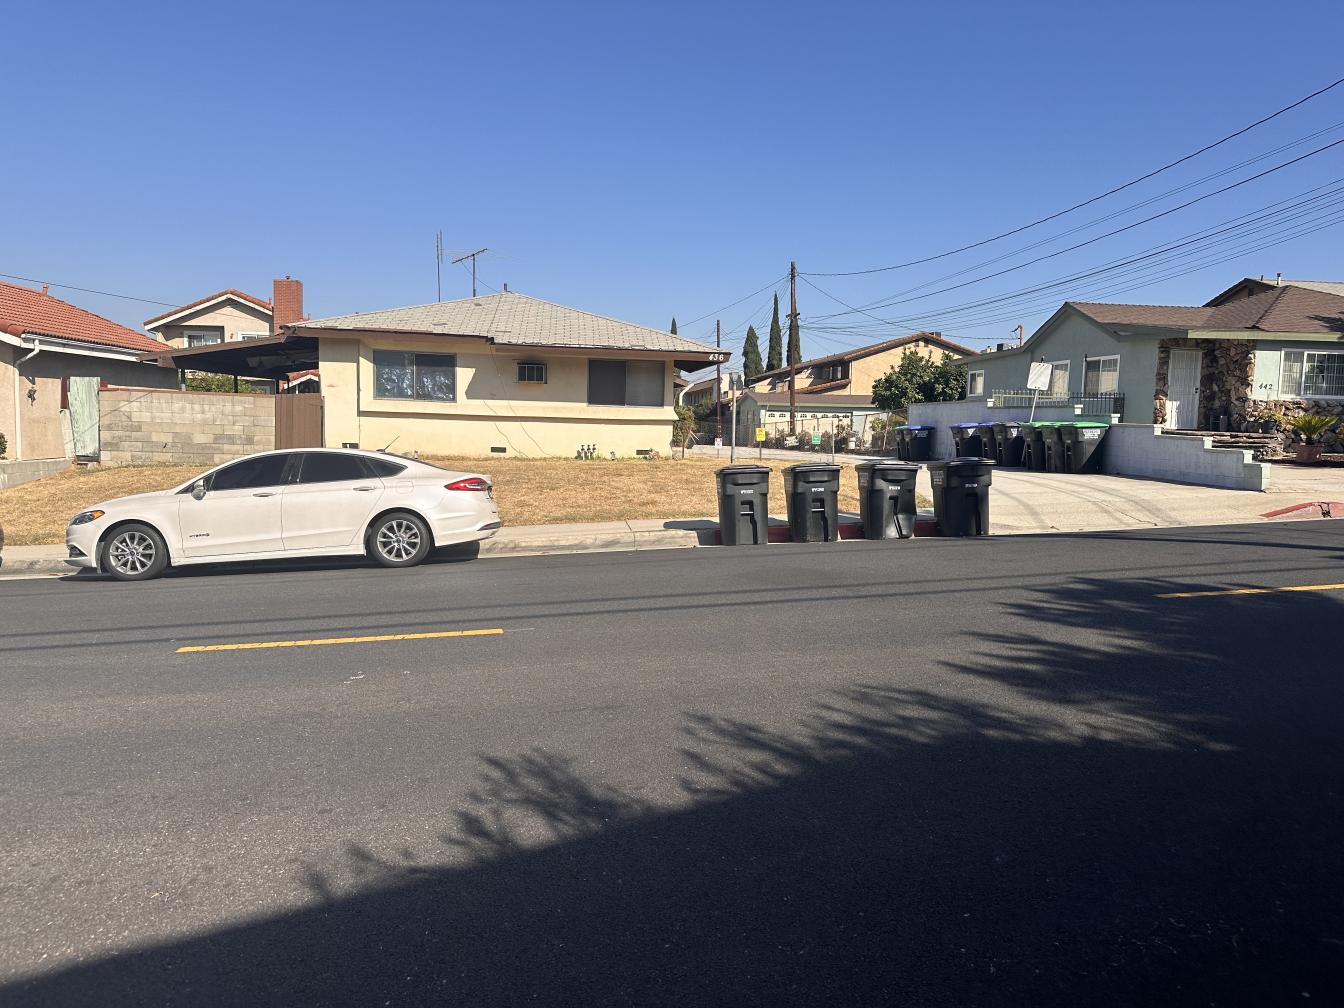curbs-laRr: (505, 527, 723, 553), (3, 550, 78, 588)
